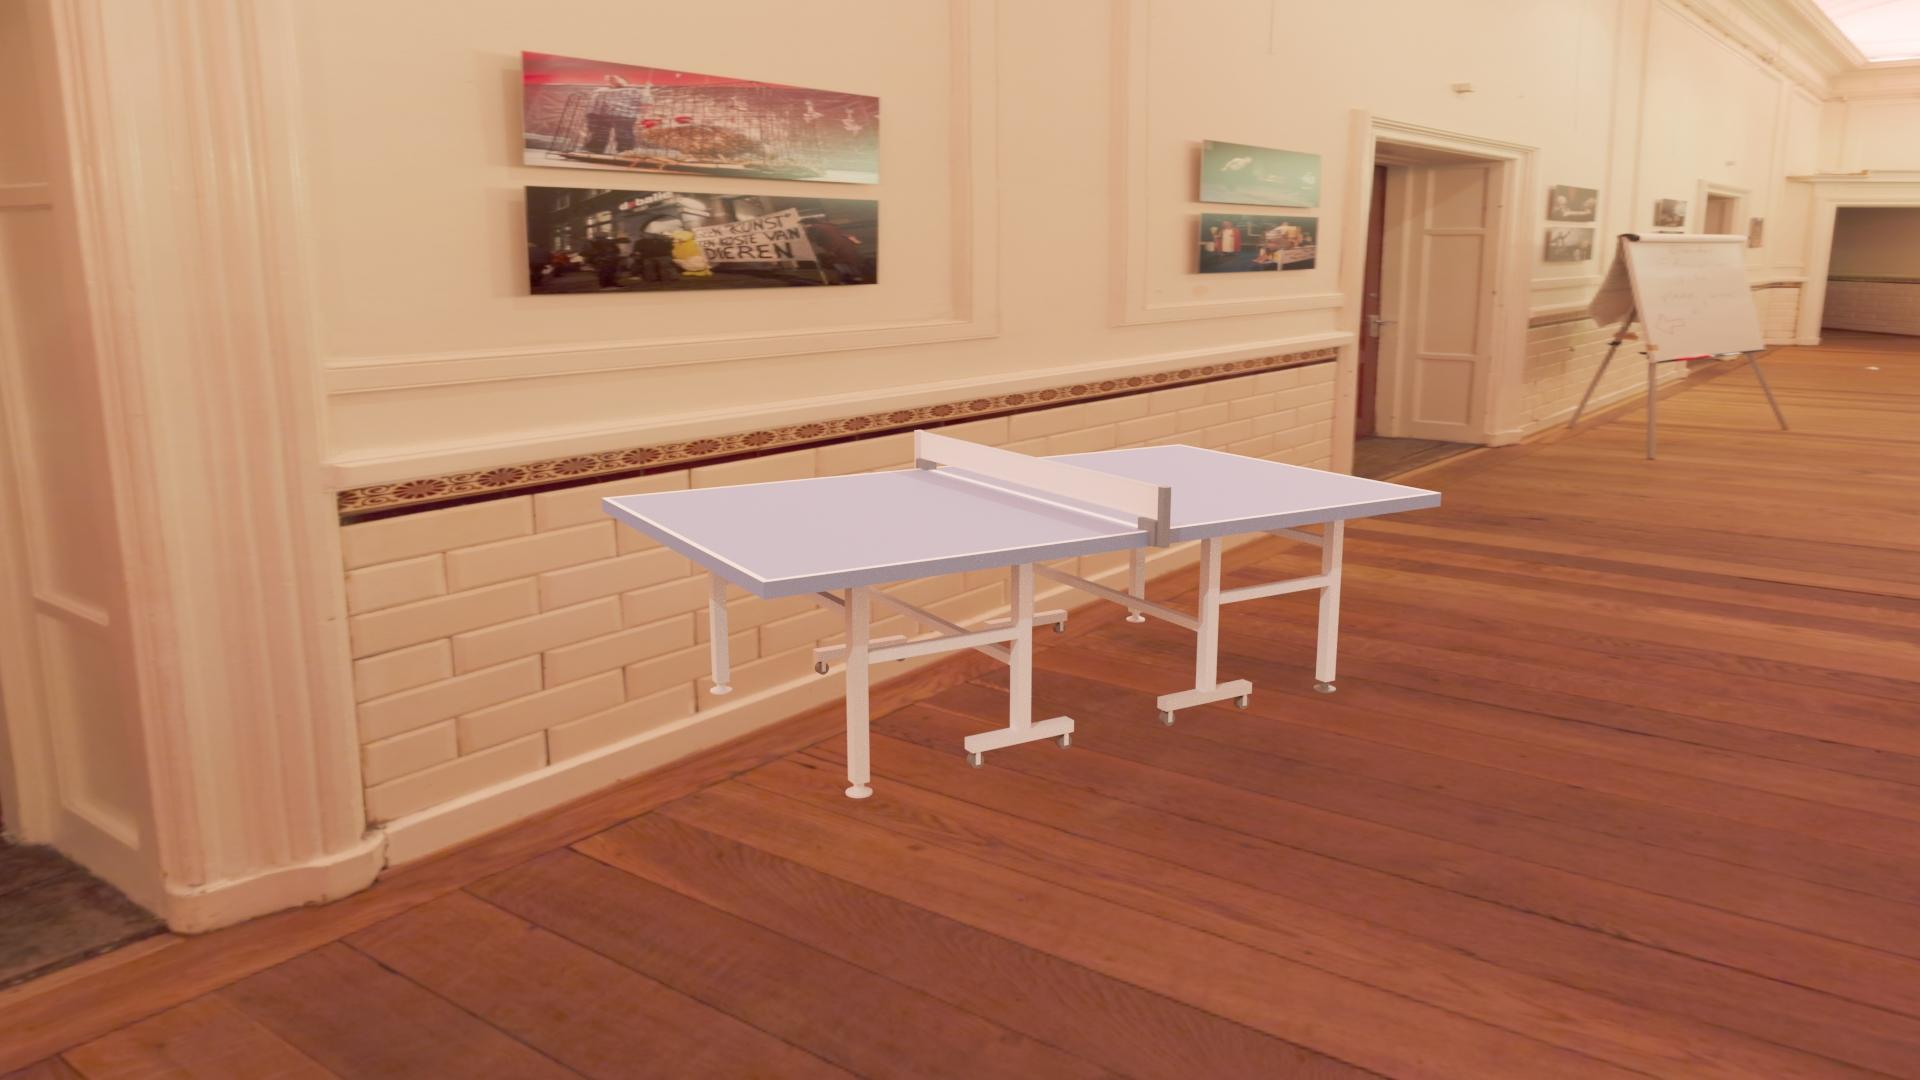table: (609, 446, 1433, 580)
